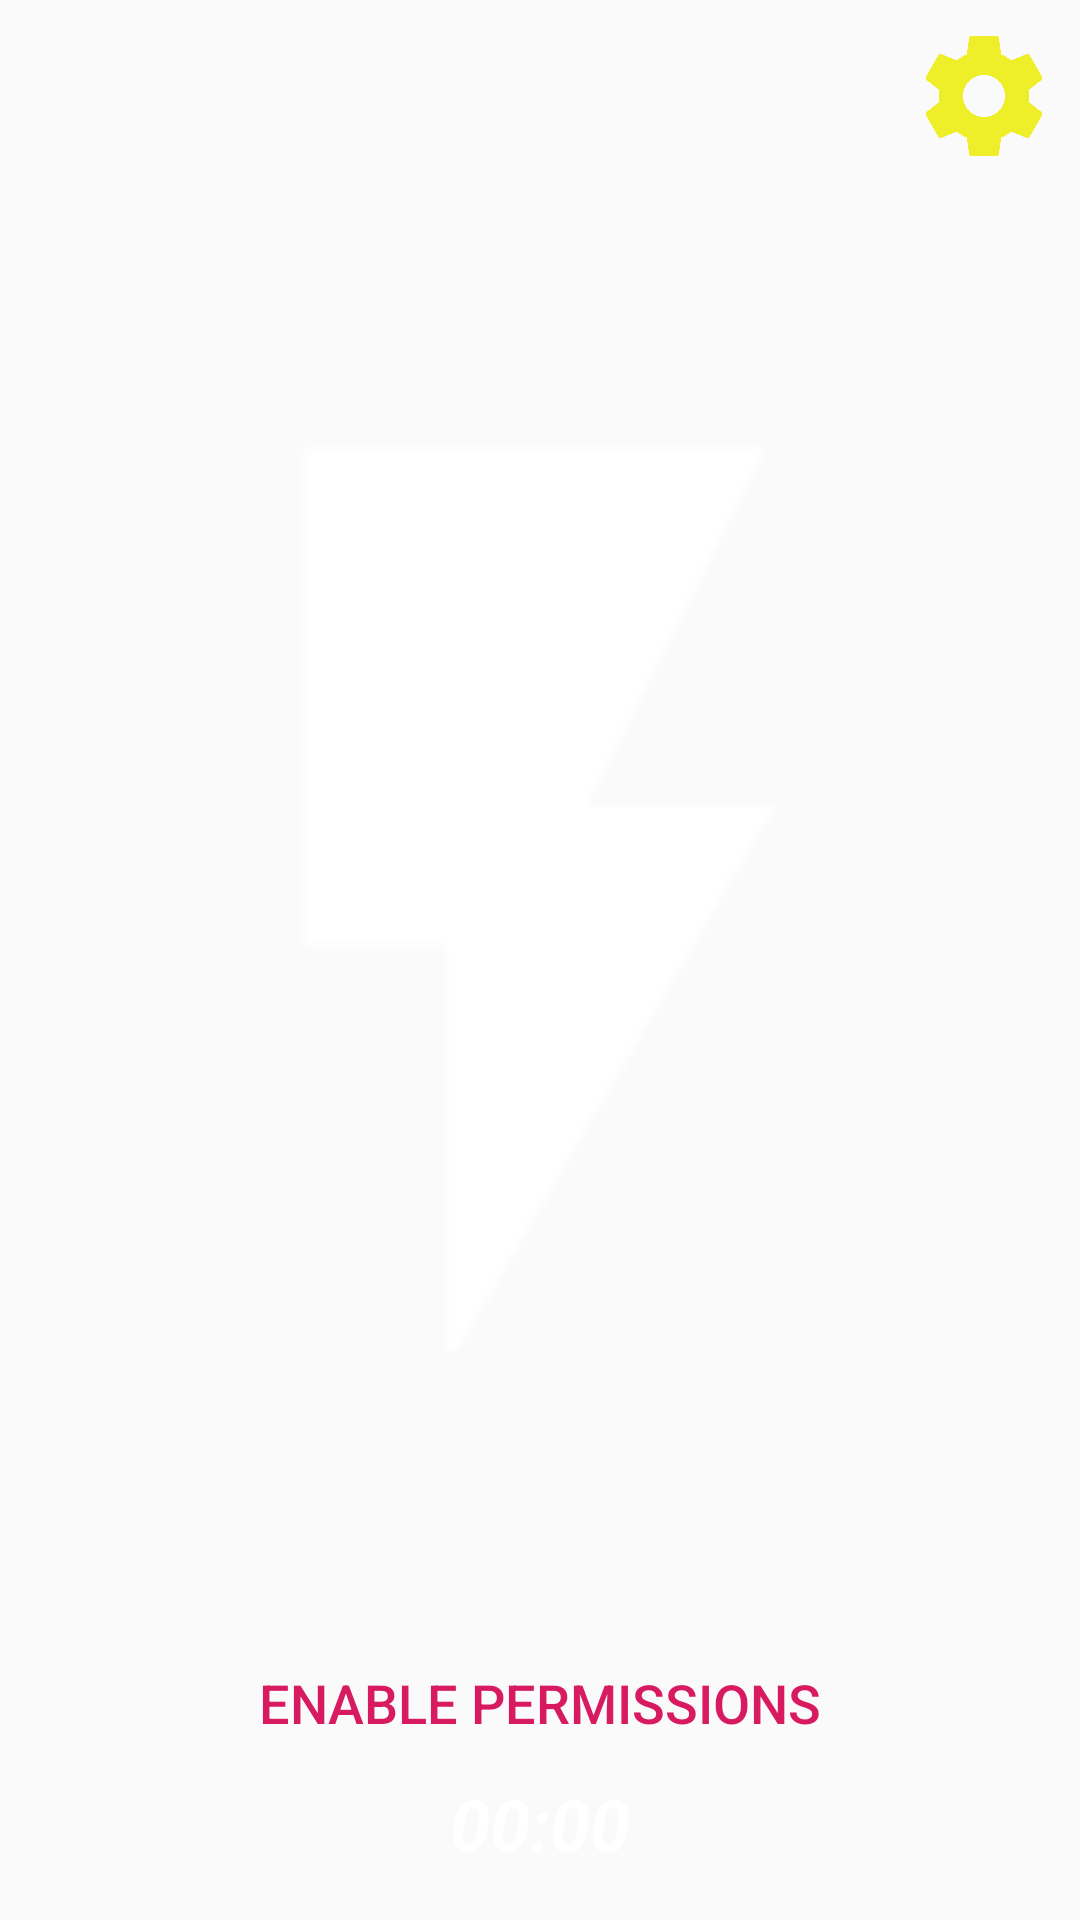

Icon bounding boxes for this 1080px x 1920px phone screenshot, format [x1,y1,x2,y2]:
settings: [926,36,1042,156]
